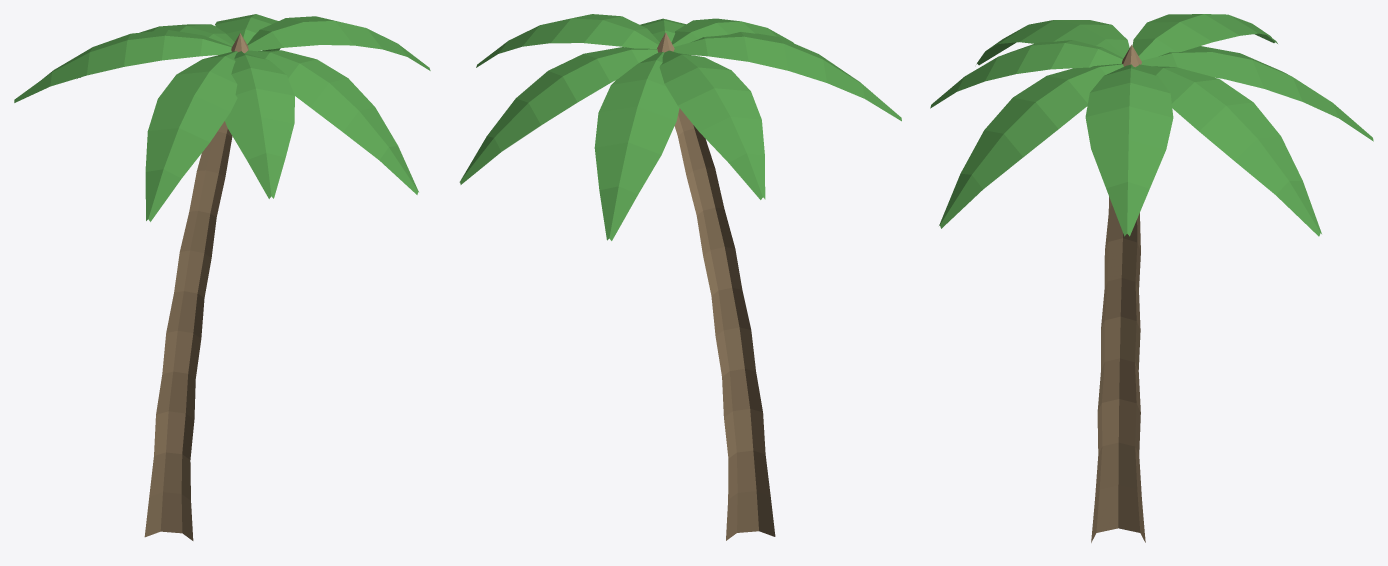
The model's file is palm.glb.
3 renders of one model, left to right at view 1: azimuth 30°, elevation 25°; view 2: azimuth 150°, elevation 25°; view 3: azimuth 270°, elevation 25°, orthographic. The views are drawn at different scales.
Visible parts, largest first — view 1: palm; view 2: palm; view 3: palm.
Part boxes in pixels (x1,y1,x2,y2): palm: (14,14,430,540); palm: (459,14,901,540); palm: (930,14,1373,542).
Size of the model in its own units: 6.72 by 8.91 by 6.64.
